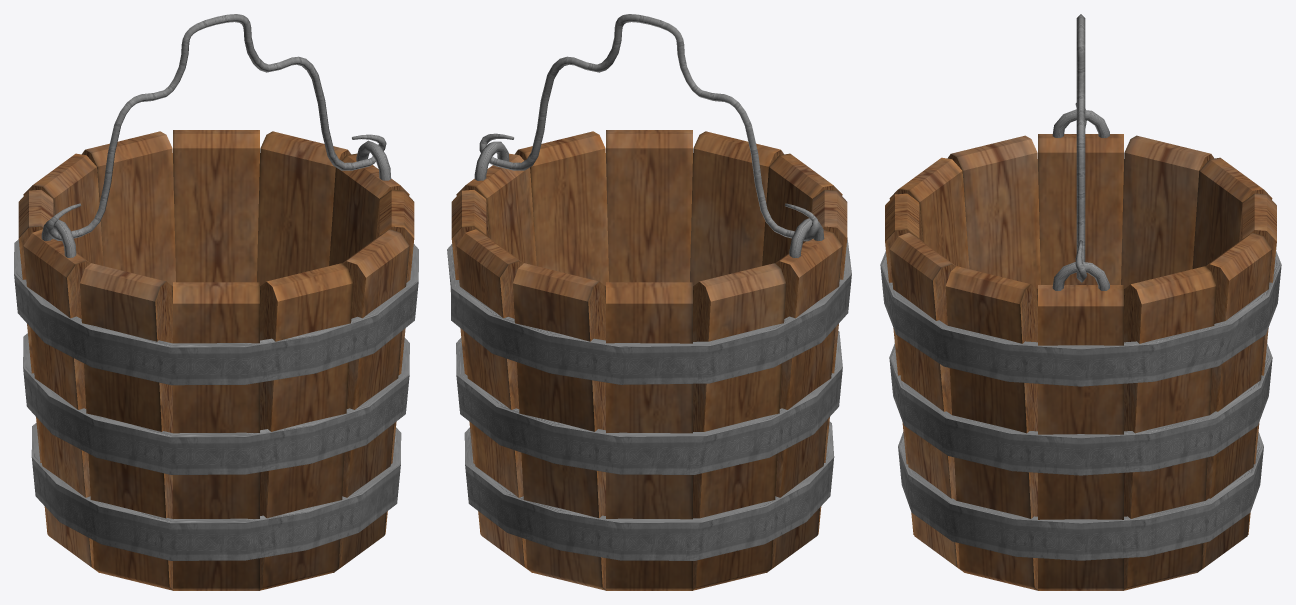
The model's file is bucket_iron.glb.
The picture shows the model from 3 angles, left to right: view 1: azimuth 30°, elevation 25°; view 2: azimuth 150°, elevation 25°; view 3: azimuth 270°, elevation 25°; orthographic projection.
Visible parts, largest first — view 1: Object_12; view 2: Object_12; view 3: Object_12.
Part boxes in pixels (box(x1,y1,x2,y2)): Object_12: box(14, 14, 418, 590); Object_12: box(447, 14, 851, 590); Object_12: box(880, 14, 1281, 590).
Size of the model in its own units: 0.4653 by 0.6416 by 0.4653.
Materials: 1 (1 with a texture image).
